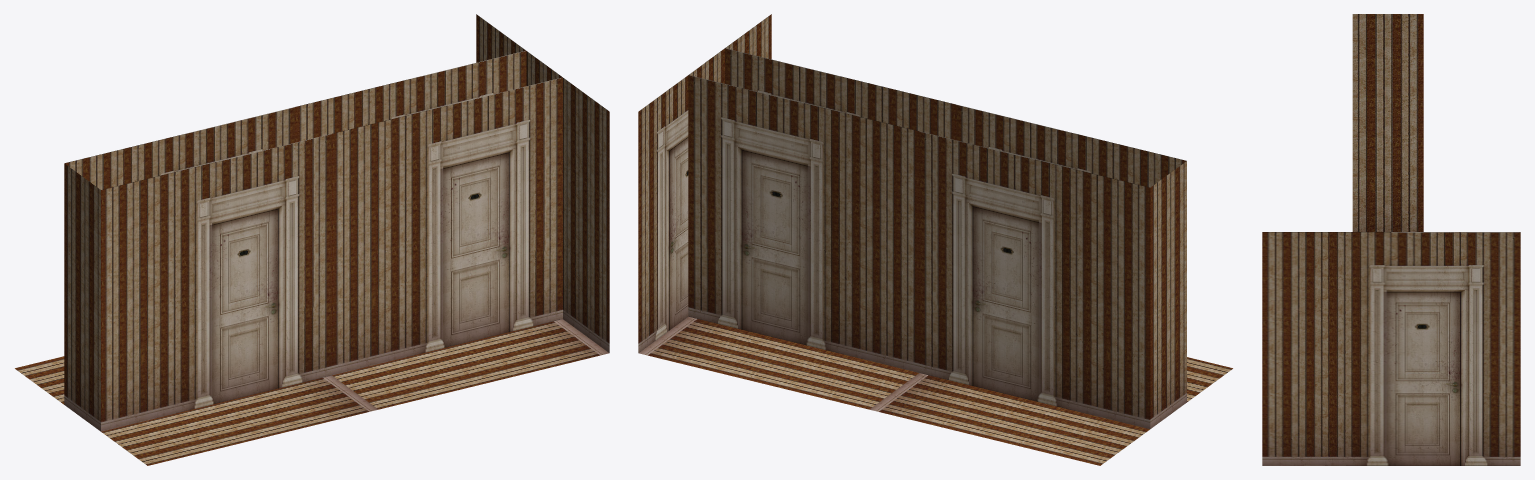
File: wall_divider_4x8_S.obj
The picture shows the model from 3 angles, left to right: view 1: azimuth 30°, elevation 25°; view 2: azimuth 150°, elevation 25°; view 3: azimuth 270°, elevation 25°; orthographic projection. The views are drawn at different scales.
Visible parts, largest first — view 1: wall_divider_4x8_S_Cube.046; view 2: wall_divider_4x8_S_Cube.046; view 3: wall_divider_4x8_S_Cube.046.
Boxes of the visible parts, x1,y1,x2,y2 form: wall_divider_4x8_S_Cube.046: [15, 14, 609, 465]; wall_divider_4x8_S_Cube.046: [638, 14, 1232, 465]; wall_divider_4x8_S_Cube.046: [1262, 14, 1520, 465].
Bounding box in the file's own units: 8 × 4 × 4.
